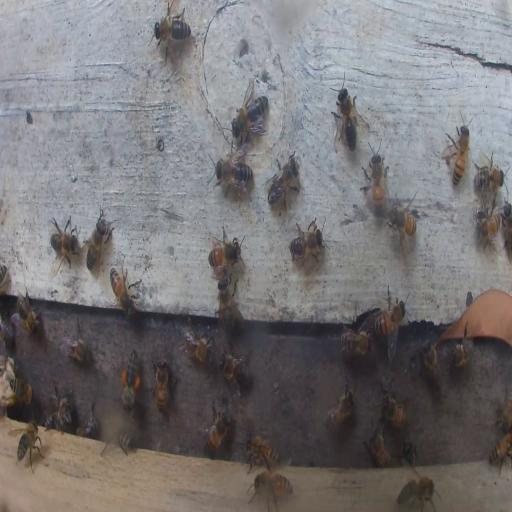bee: (150, 1, 191, 59), (230, 87, 269, 146), (266, 150, 302, 208), (334, 78, 362, 150), (208, 225, 246, 274), (48, 214, 81, 270), (384, 194, 420, 245), (84, 209, 112, 273), (213, 151, 252, 194), (324, 381, 356, 433), (397, 473, 440, 511), (109, 266, 140, 318), (365, 146, 388, 214), (288, 220, 324, 262), (201, 406, 231, 456), (375, 296, 406, 344), (15, 419, 42, 472), (44, 385, 73, 433), (181, 323, 214, 365), (473, 152, 505, 195), (245, 434, 279, 472), (449, 126, 470, 186), (120, 352, 141, 411), (16, 286, 42, 332), (218, 277, 240, 330), (218, 352, 250, 388), (366, 426, 394, 467), (62, 322, 88, 366), (380, 390, 407, 429), (340, 328, 372, 359), (488, 434, 512, 474), (449, 330, 474, 368), (476, 208, 503, 243), (153, 358, 169, 412), (6, 373, 32, 405), (423, 340, 441, 386), (496, 382, 511, 430), (260, 476, 293, 497), (80, 401, 99, 437), (402, 438, 418, 472), (0, 316, 16, 346), (504, 204, 512, 258), (116, 430, 132, 452), (0, 262, 8, 294)
